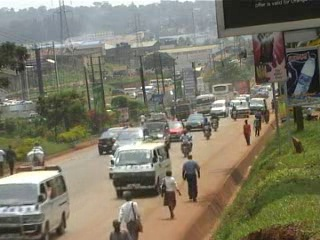Car: (138, 114, 174, 152), (112, 126, 152, 160), (96, 128, 118, 156), (183, 112, 210, 133), (165, 117, 185, 141), (209, 98, 231, 118)
Motorcycle: (24, 137, 50, 166), (179, 128, 194, 158), (198, 114, 214, 140), (209, 111, 219, 132), (230, 104, 239, 121)
